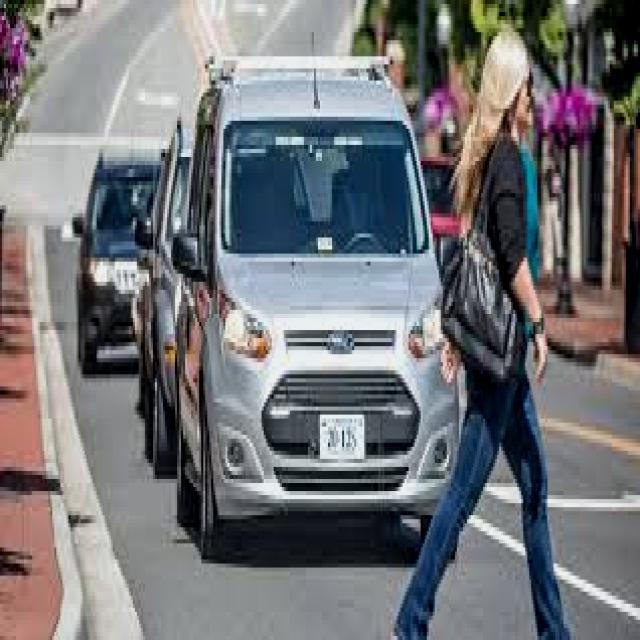BUS: (139, 44, 498, 562)
